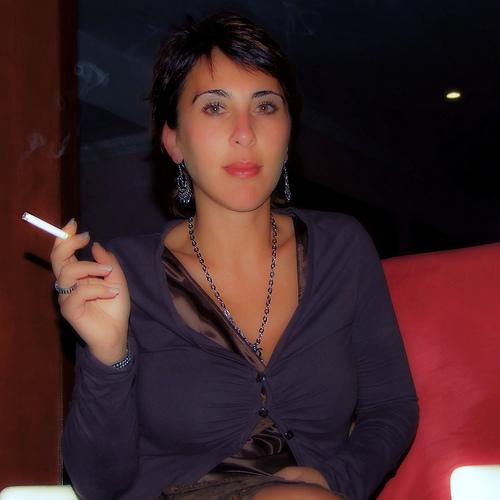person: (51, 17, 425, 497)
